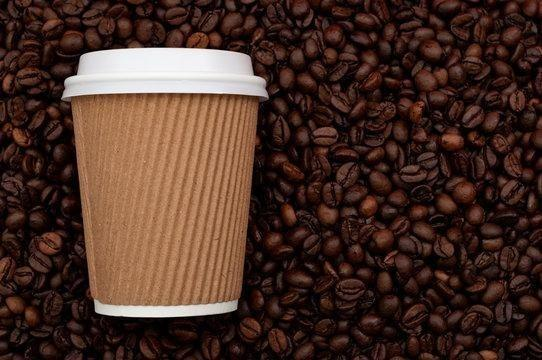cup-disposable: (52, 41, 277, 329)
